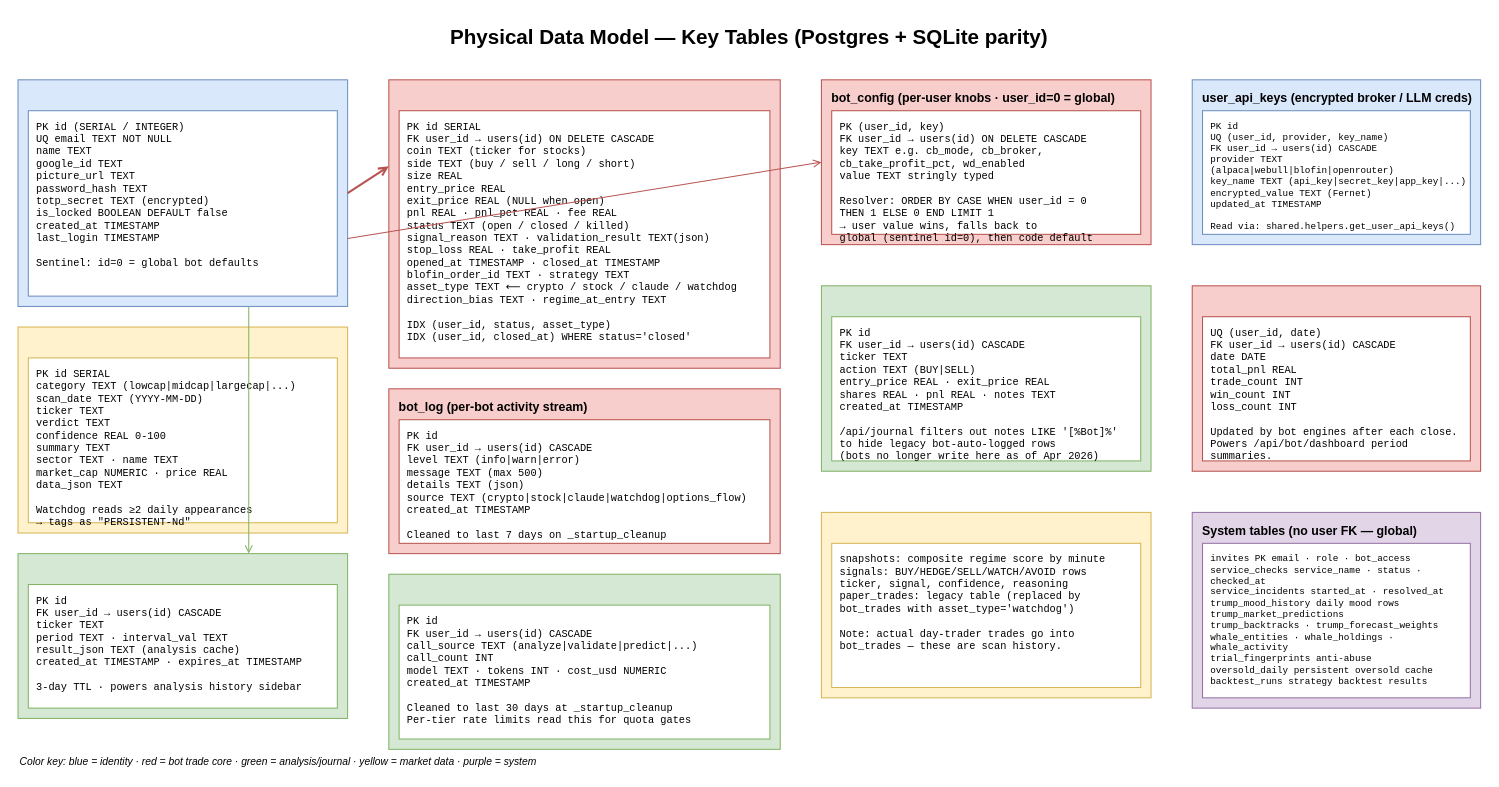
The diagram is 1499 pixels wide and 787 high, and some of its shapes have lost their labels. The box of each missing label's shape, as (x1, y1, x2, y2) in pixels:
bot_daily_pnl (rolled-up daily totals): (1191, 285, 1481, 471)
bot_trades ⟵ PRIMARY TRADE LEDGER: (388, 79, 780, 368)
journal_entries (manual notes only): (820, 285, 1151, 471)
llm_usage_log: (388, 573, 780, 749)
screener_results (multi-day scan history): (17, 326, 348, 533)
searches: (17, 553, 348, 718)
users: (17, 79, 348, 306)
watchdog_snapshots / signals / paper_trades: (820, 511, 1151, 698)
